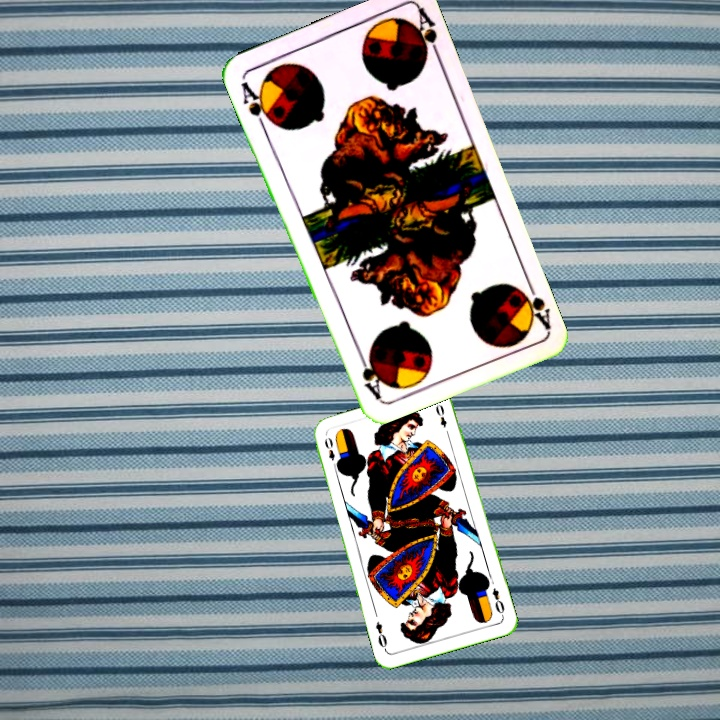EO: (320, 433, 341, 472), (488, 584, 507, 620)
SA: (511, 275, 554, 332), (236, 77, 277, 132)
